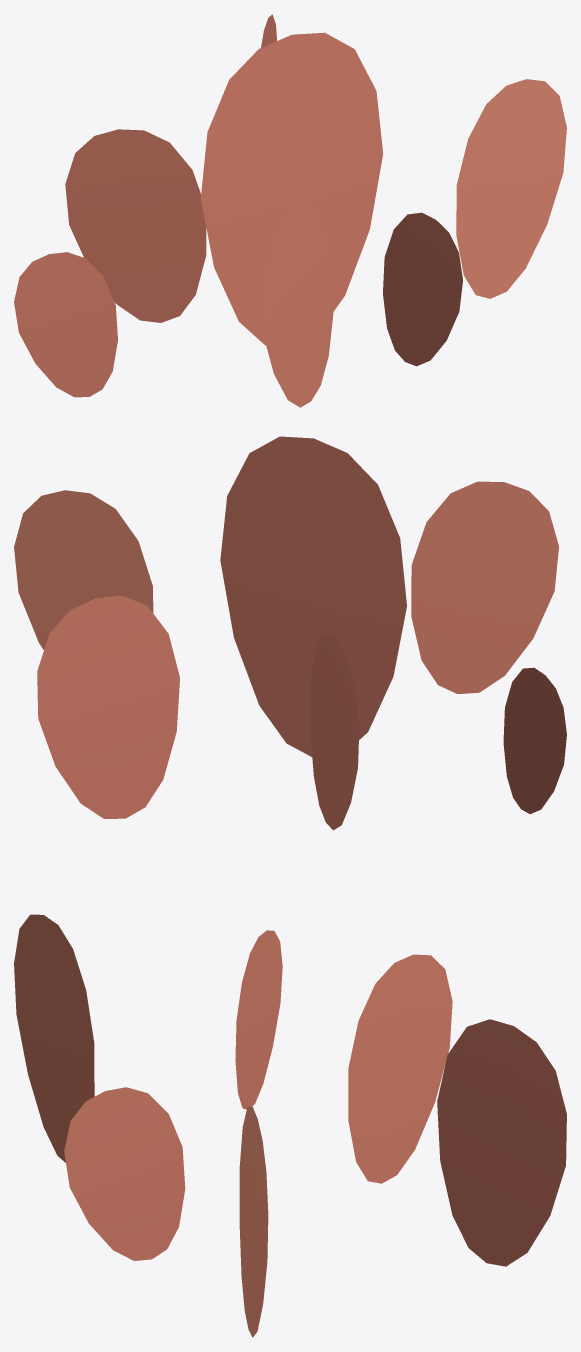
The model's file is SM_Grass_Patch_1.fbx.
3 renders of one model, top to bottom at view 1: azimuth 30°, elevation 25°; view 2: azimuth 150°, elevation 25°; view 3: azimuth 270°, elevation 25°, orthographic. The views are drawn at different scales.
Parts seen in each view (by area): view 1: SM_Grass_Patch_1; view 2: SM_Grass_Patch_1; view 3: SM_Grass_Patch_1.
Boxes of the visible parts, x1,y1,x2,y2 form: SM_Grass_Patch_1: [14, 14, 566, 407]; SM_Grass_Patch_1: [14, 436, 566, 830]; SM_Grass_Patch_1: [14, 914, 566, 1337].
Bounding box in the file's own units: 39.9 × 21.94 × 31.17.
